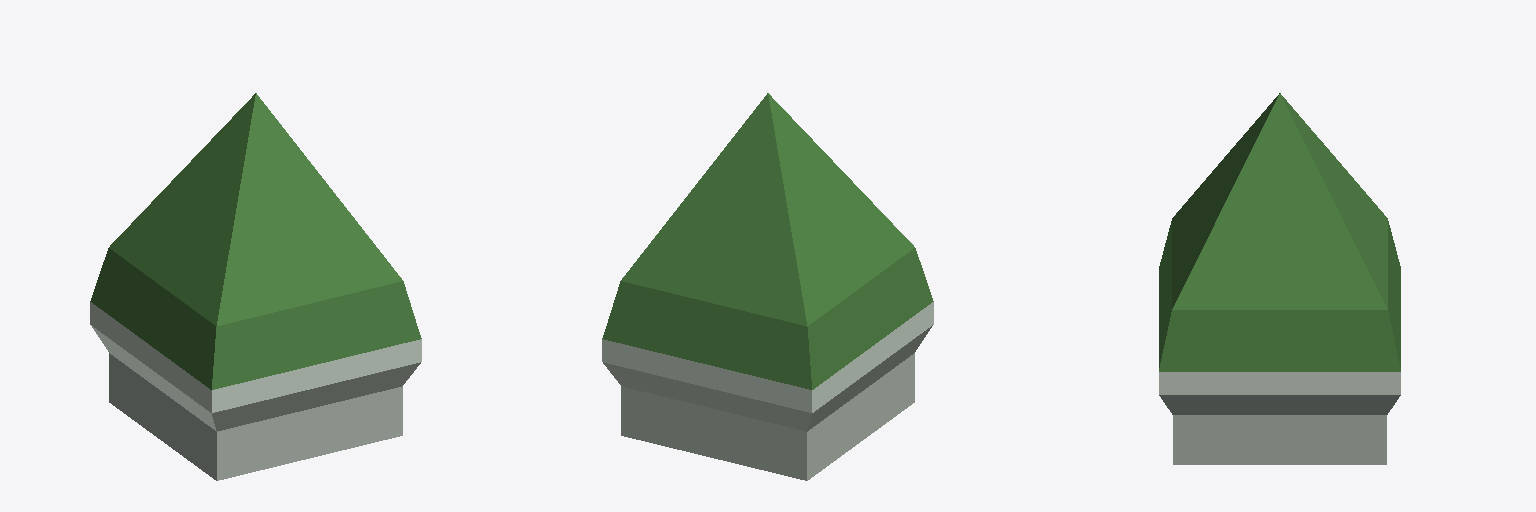
File: tile_052.obj
The picture shows the model from 3 angles: view 1: azimuth 30°, elevation 25°; view 2: azimuth 150°, elevation 25°; view 3: azimuth 270°, elevation 25°; orthographic projection.
Parts seen in each view (by area): view 1: tile_052; view 2: tile_052; view 3: tile_052.
Boxes of the visible parts, x1,y1,x2,y2 form: tile_052: [90, 93, 421, 480]; tile_052: [602, 93, 933, 480]; tile_052: [1159, 93, 1400, 464].
Size of the model in its own units: 0.6668 by 0.99 by 0.6668.